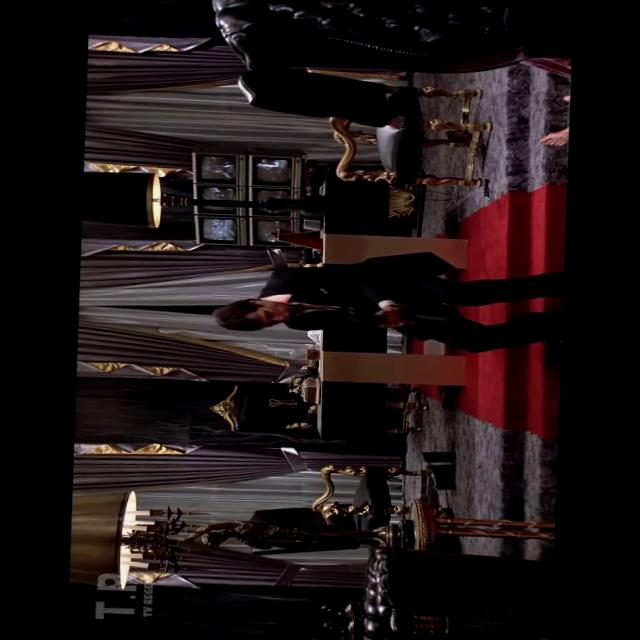long weapon: (314, 290, 462, 346)
